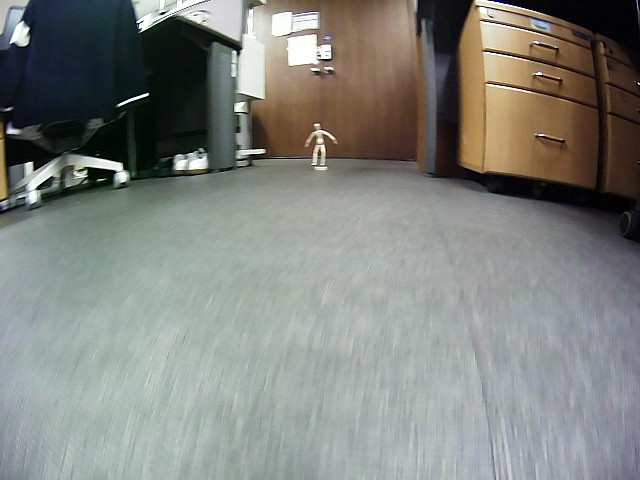person: (305, 123, 338, 166)
